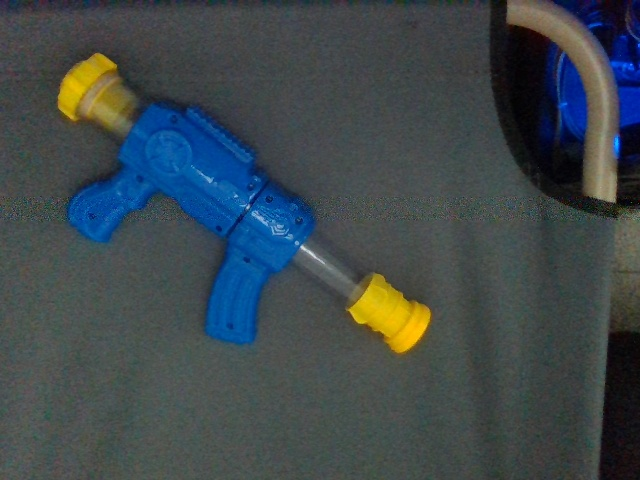screw hole: (294, 216, 304, 226), (135, 174, 144, 183), (170, 115, 178, 124), (215, 224, 223, 233), (225, 321, 233, 330), (243, 257, 251, 264), (266, 196, 273, 204), (248, 182, 254, 191), (90, 213, 96, 220)
toy: (56, 52, 431, 355)
